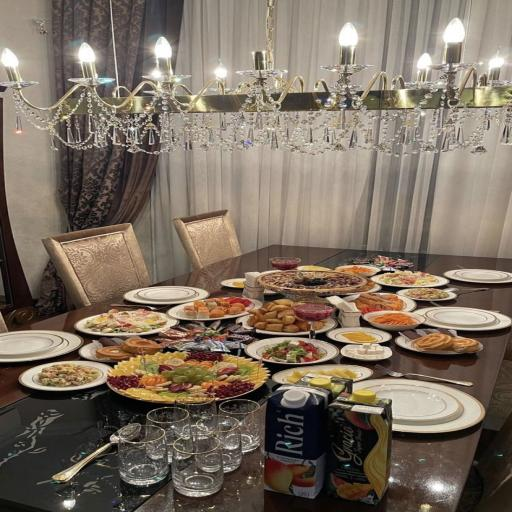bus: (40, 220, 158, 314), (172, 207, 240, 270)
stroller: (0, 242, 511, 512)
